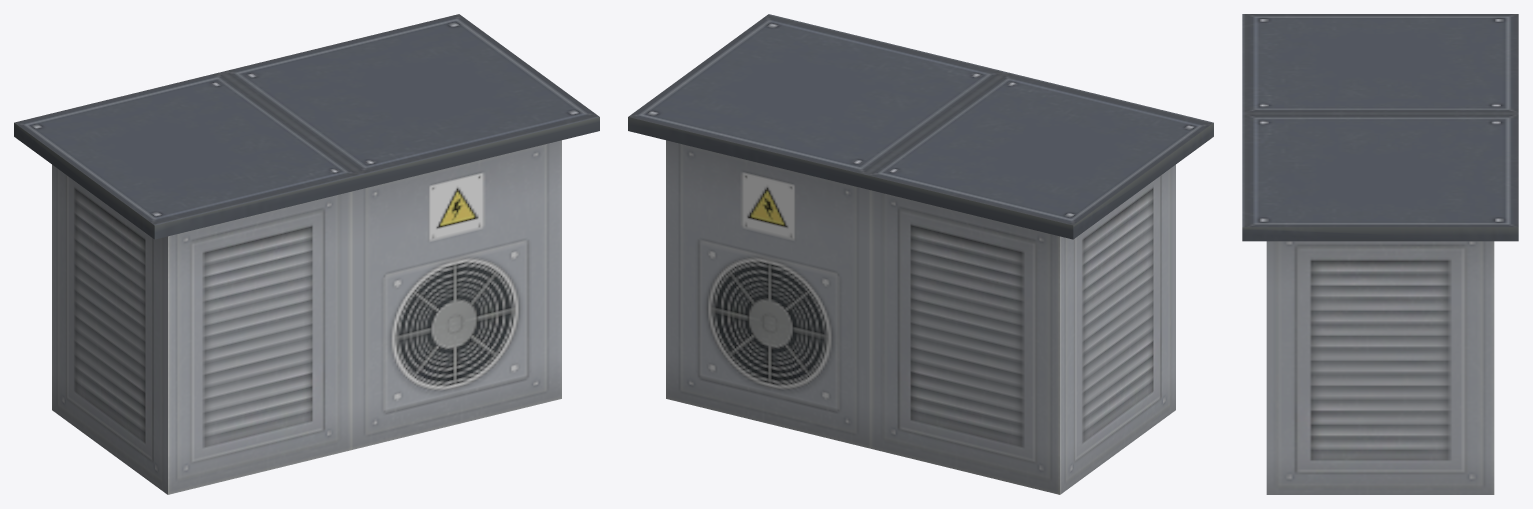
Rendered from Air_cond_01.fbx.
3 views of the same model, side by side, from view 1: azimuth 30°, elevation 25°; view 2: azimuth 150°, elevation 25°; view 3: azimuth 270°, elevation 25° (orthographic).
Visible parts, largest first — view 1: air_conditioner_4_Mesh; view 2: air_conditioner_4_Mesh; view 3: air_conditioner_4_Mesh.
Part boxes in pixels (box(x1,y1,x2,y2)): air_conditioner_4_Mesh: box(14, 14, 599, 494); air_conditioner_4_Mesh: box(628, 14, 1213, 494); air_conditioner_4_Mesh: box(1242, 14, 1518, 494).
Size of the model in its own units: 193 by 118 by 106.
